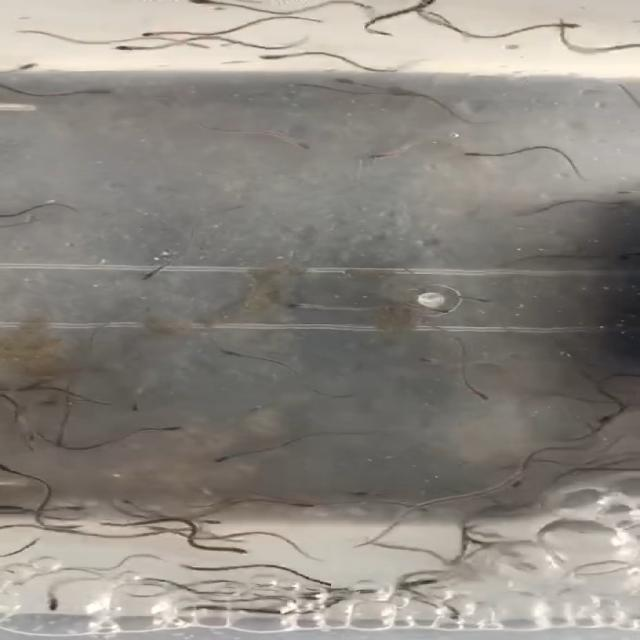active_glass_eel: (272, 295, 334, 323), (197, 342, 259, 367), (349, 24, 410, 43), (460, 388, 506, 413), (122, 262, 162, 290), (284, 133, 330, 157), (408, 348, 452, 373), (457, 141, 500, 166), (202, 541, 252, 562), (442, 290, 499, 308), (141, 418, 192, 438), (50, 500, 100, 520), (532, 18, 587, 36), (245, 46, 290, 68), (392, 500, 438, 520), (584, 407, 626, 428), (364, 146, 401, 168), (332, 71, 366, 94), (287, 496, 324, 517), (98, 41, 148, 56), (240, 398, 278, 417), (42, 436, 78, 456), (37, 598, 73, 618), (205, 451, 235, 474), (502, 468, 544, 484), (400, 575, 448, 589), (8, 59, 52, 74), (116, 494, 149, 510), (198, 516, 233, 530), (285, 79, 322, 92), (129, 29, 171, 40), (176, 0, 239, 7), (0, 461, 19, 479)
